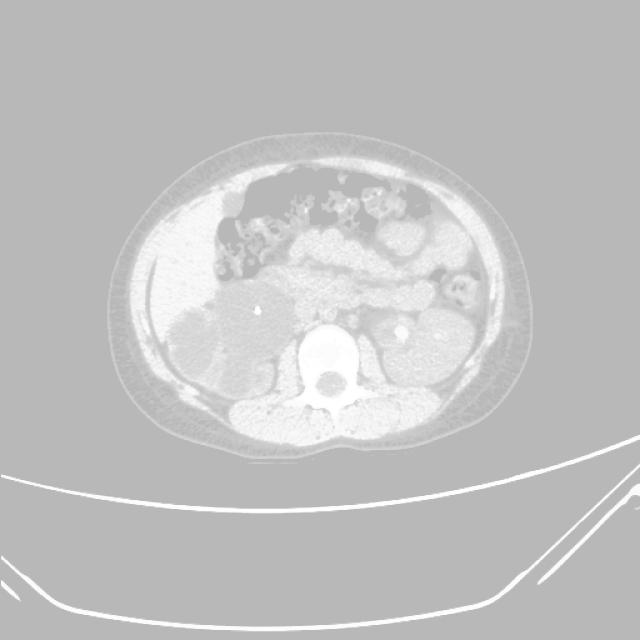STONE: (164, 129, 476, 306)
